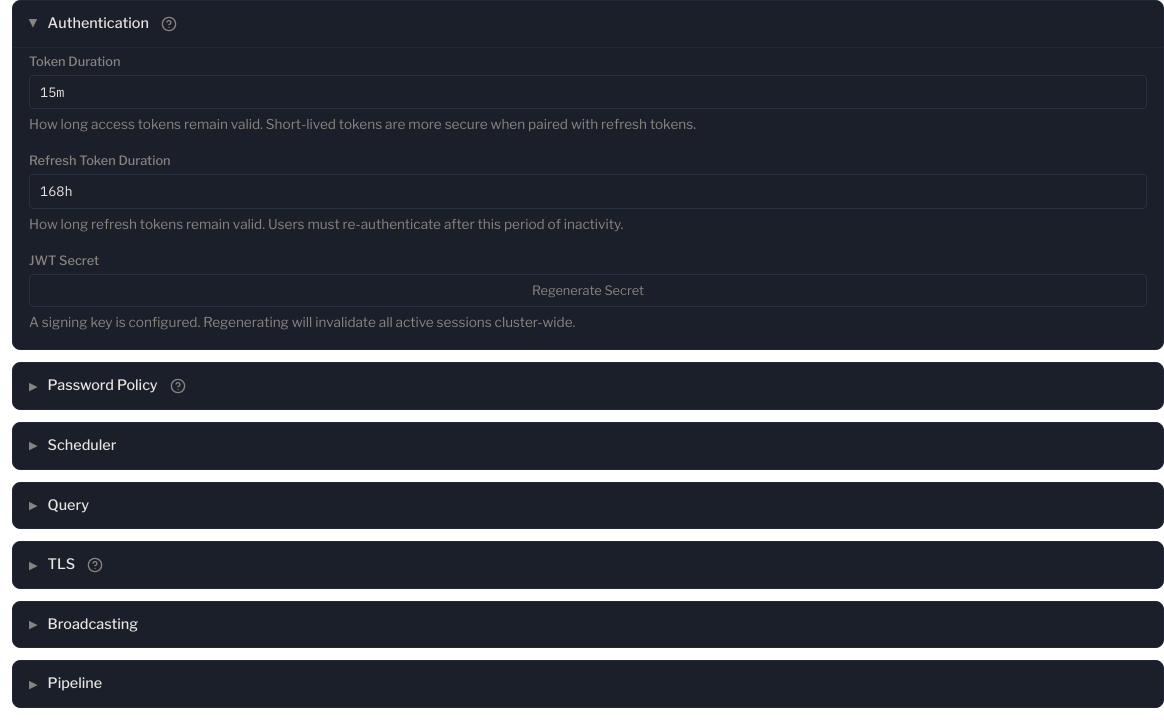
it: ServiceSettings › a saved max result count of 0 shows as 0, not as the bootstrap default
The width and height of the screenshot is (1164, 720).
Step 1. Click the text "Query" → (68, 505), box top-left (48, 495), bottom-right (89, 516)
(page scrolled)
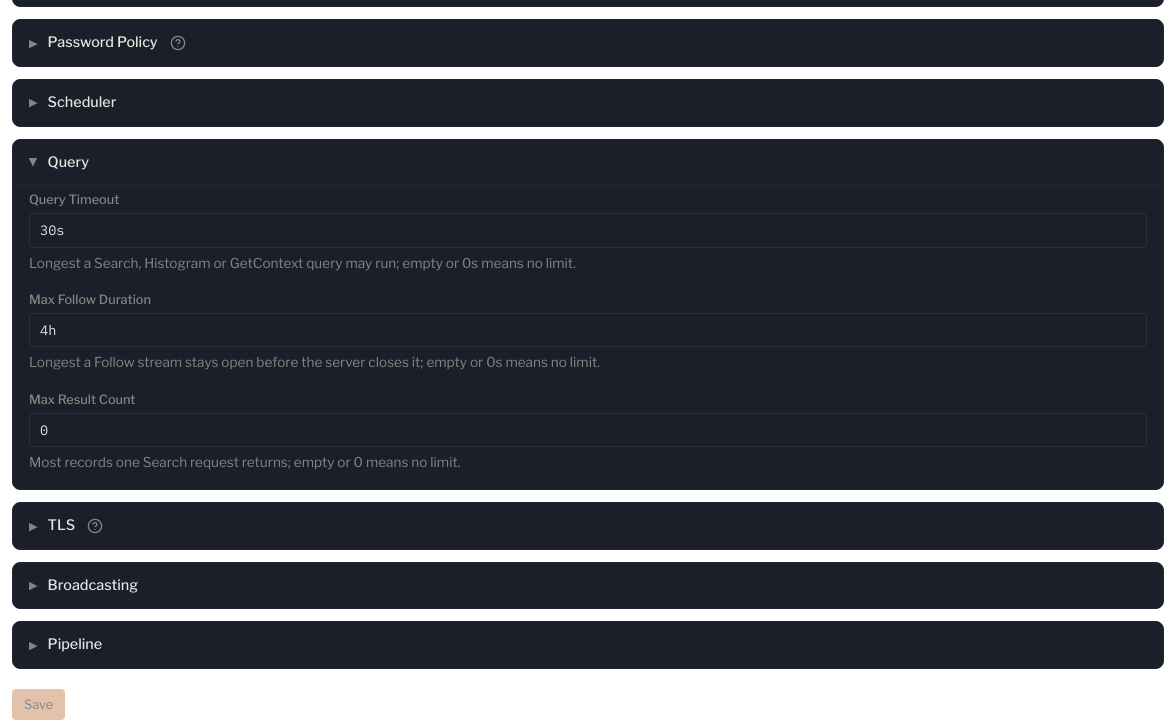
Result: the button "Save" is disabled at top-left (12, 689), bottom-right (65, 719)
